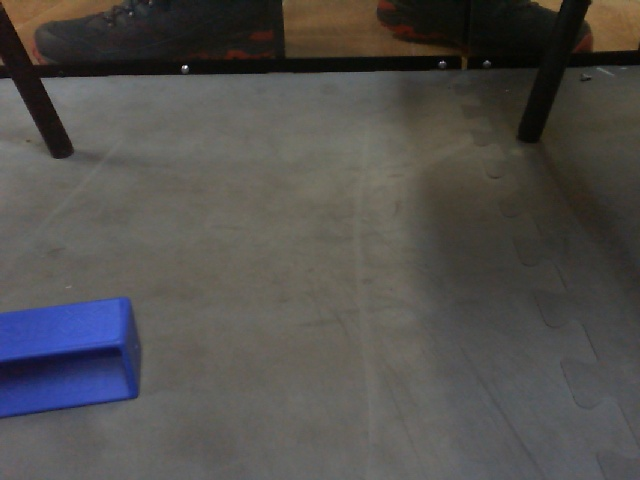BlueSample: (1, 295, 147, 427)
